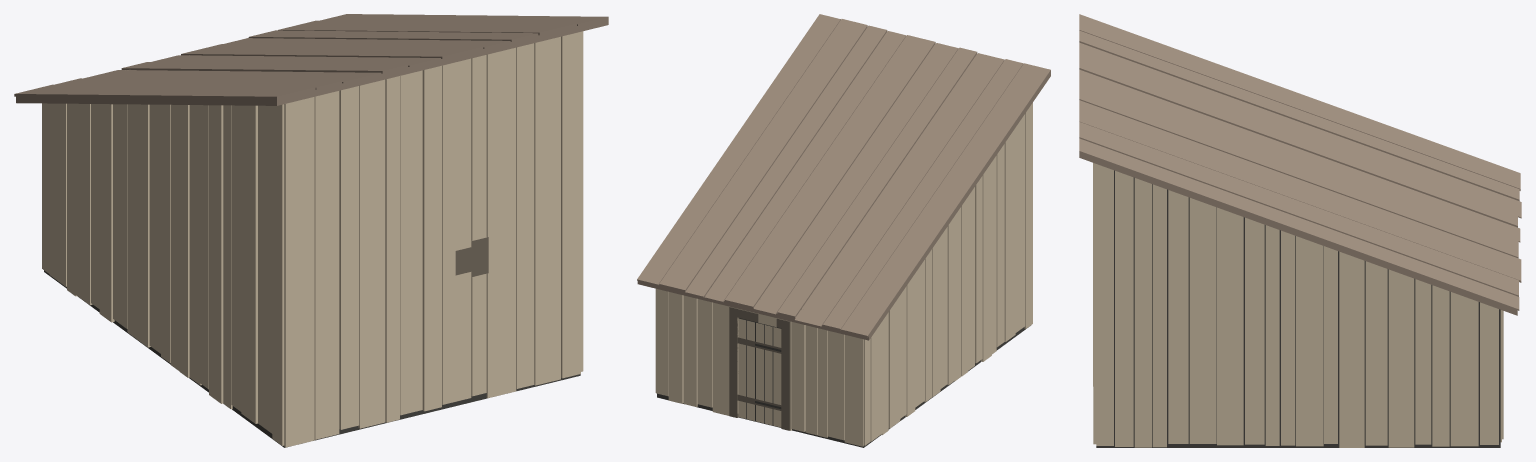
Rendered from recon_1835_blk_lake_market_d2_04__inferred_1835.glb.
The picture shows the model from 3 angles, left to right: view 1: azimuth 30°, elevation 25°; view 2: azimuth 150°, elevation 25°; view 3: azimuth 270°, elevation 25°; orthographic projection. The views are drawn at different scales.
Visible parts, largest first — view 1: recon_1835_blk_lake_market_d2_04__inferred_1835; view 2: recon_1835_blk_lake_market_d2_04__inferred_1835; view 3: recon_1835_blk_lake_market_d2_04__inferred_1835.
Part boxes in pixels (x1=…): recon_1835_blk_lake_market_d2_04__inferred_1835: x1=14, y1=14, x2=608, y2=447; recon_1835_blk_lake_market_d2_04__inferred_1835: x1=637, y1=14, x2=1050, y2=447; recon_1835_blk_lake_market_d2_04__inferred_1835: x1=1079, y1=14, x2=1521, y2=447.
Bounding box in the file's own units: 4.52 × 4.73 × 6.22.
